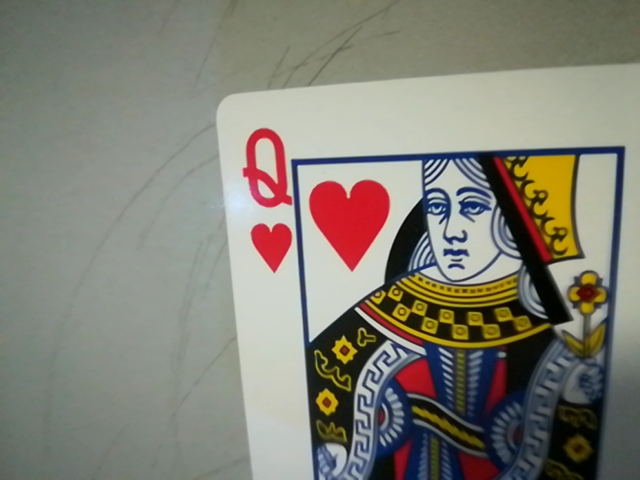hx q: (234, 118, 301, 280)
